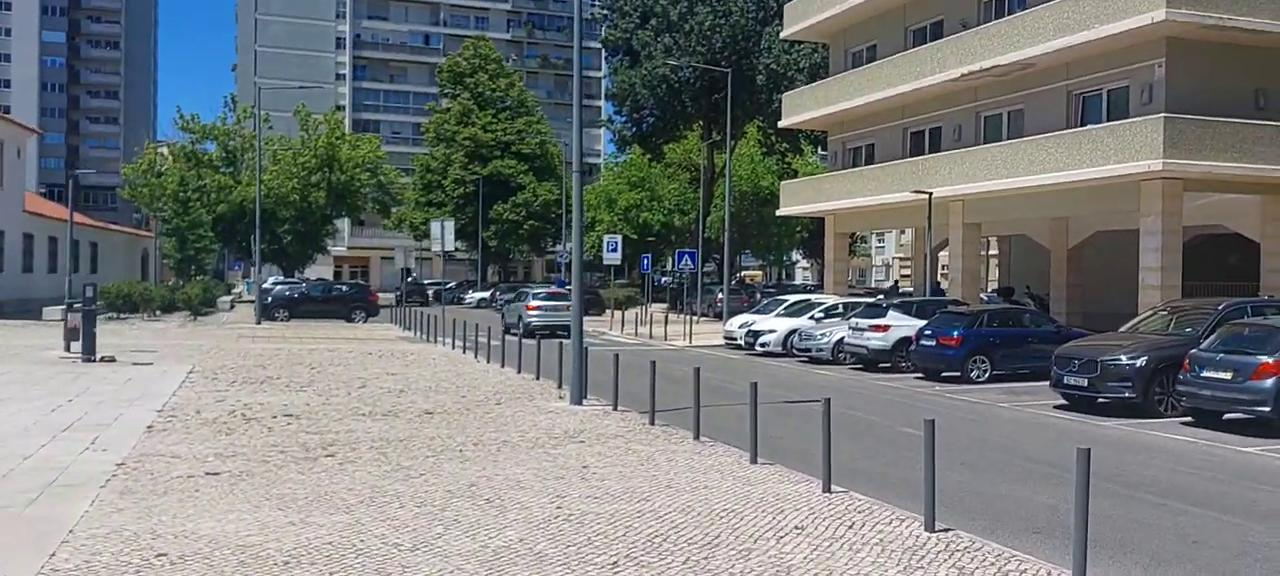passagem para peoes: (675, 247, 701, 276)
